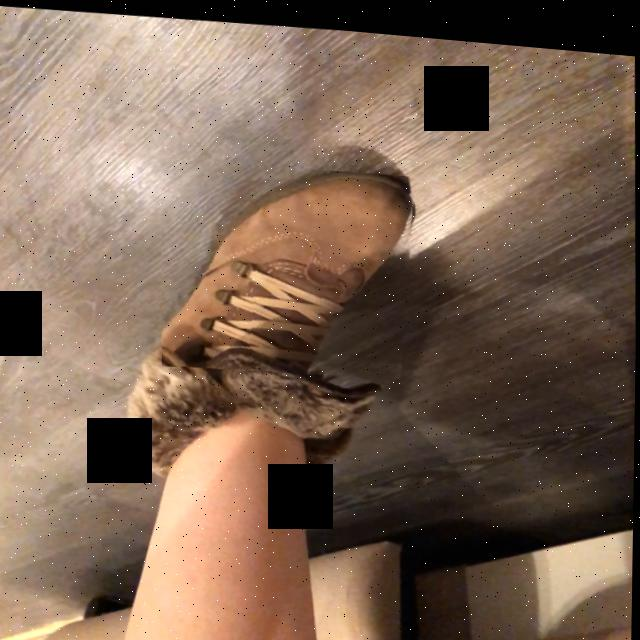shoe: (162, 165, 414, 368)
